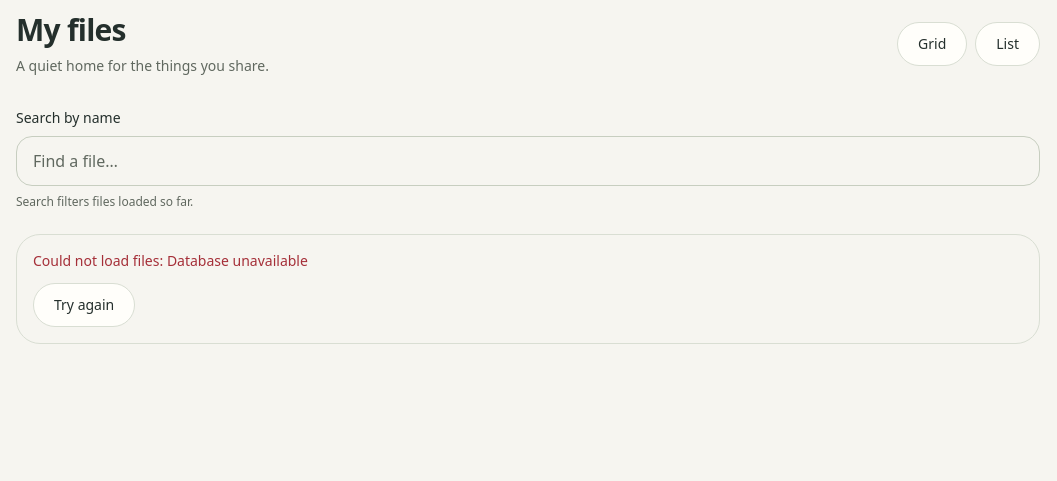
shows a specific error and retries
Expected: the message shows "Database unavailable", [167, 251, 308, 270]
Click the button "Try again" at (84, 305), box [33, 283, 135, 327]
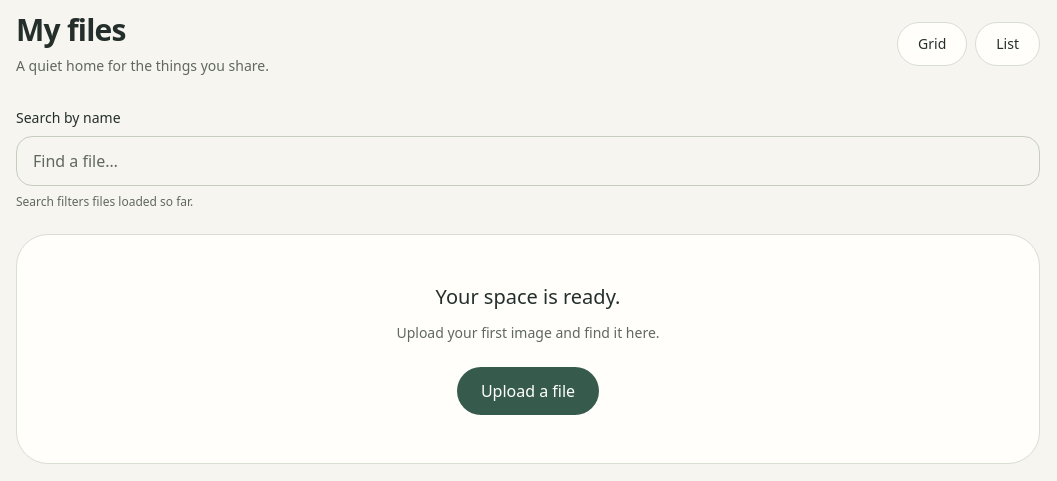
Now the heading "Your space is ready." is shown, box [436, 283, 620, 310]
